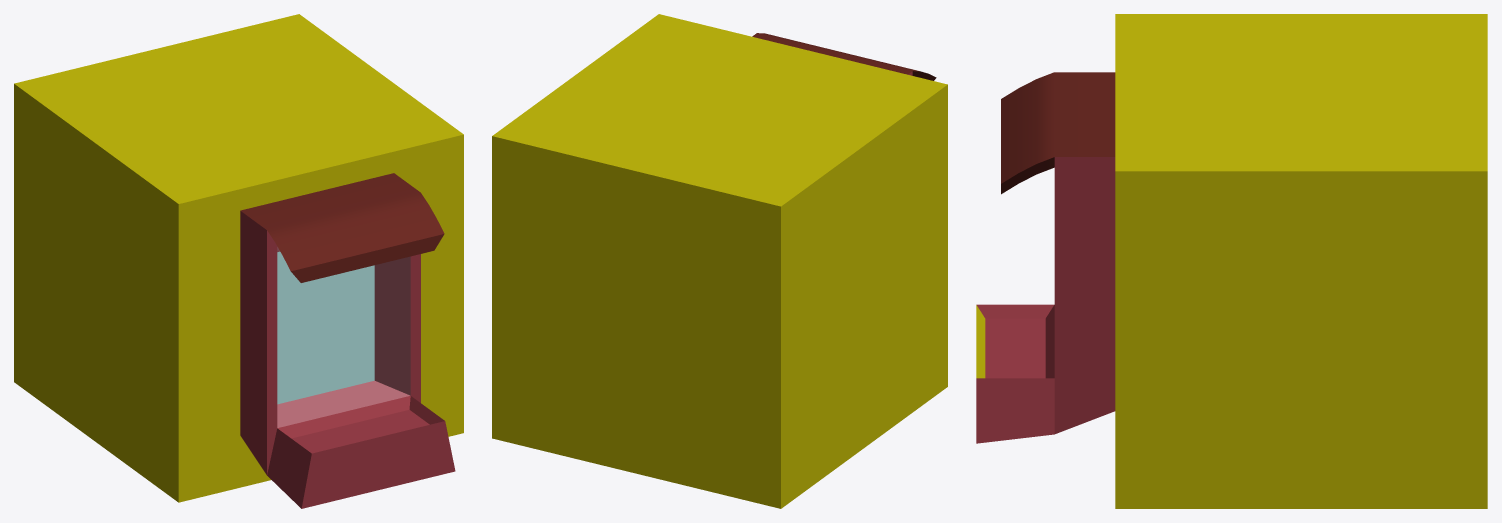
Rendered from Middle Block yellow red.fbx.
3 views of the same model, side by side, from view 1: azimuth 30°, elevation 25°; view 2: azimuth 150°, elevation 25°; view 3: azimuth 270°, elevation 25° (orthographic). The views are drawn at different scales.
Parts seen in each view (by area): view 1: pCube24; view 2: pCube24; view 3: pCube24.
Part boxes in pixels (x1,y1,x2,y2): pCube24: [14, 14, 463, 508]; pCube24: [492, 14, 947, 508]; pCube24: [976, 14, 1487, 508].
Bounding box in the file's own units: 2 × 2 × 2.75.
